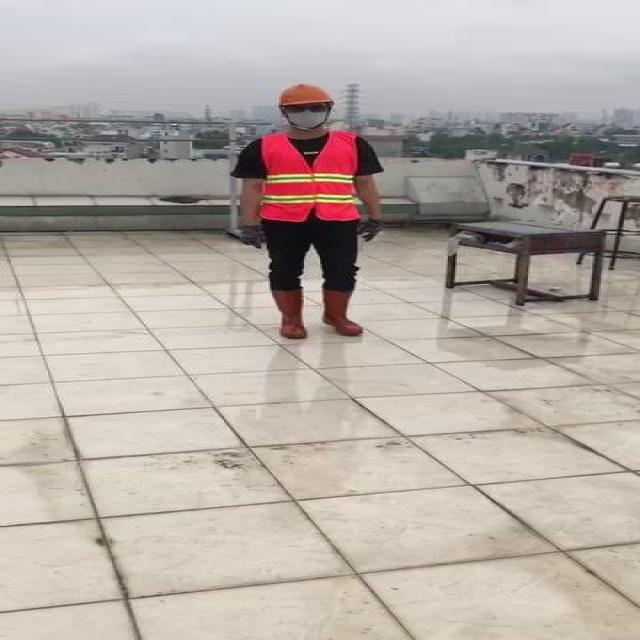boots: (320, 288, 363, 335), (272, 289, 311, 339)
face_mask: (282, 102, 330, 130)
glasses: (280, 102, 330, 115)
hand_glove: (236, 225, 266, 247), (356, 218, 382, 242)
head_helmet: (278, 82, 334, 106)
person: (224, 82, 393, 348)
vest: (261, 132, 363, 220)
